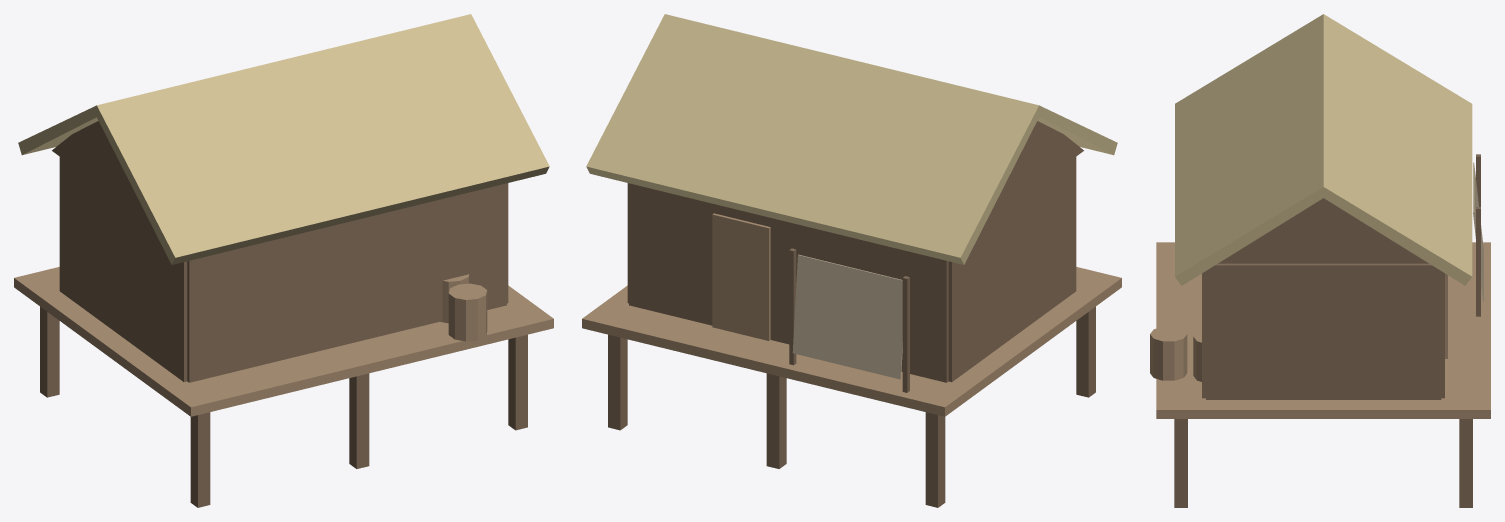
File: fish_hut.glb
3 views of the same model, side by side, from view 1: azimuth 30°, elevation 25°; view 2: azimuth 150°, elevation 25°; view 3: azimuth 270°, elevation 25° (orthographic). The views are drawn at different scales.
Visible parts, largest first — view 1: fish_hut; view 2: fish_hut; view 3: fish_hut.
Boxes of the visible parts, x1,y1,x2,y2 form: fish_hut: (14,14,553,507); fish_hut: (582,14,1121,507); fish_hut: (1150,14,1490,507).
Bounding box in the file's own units: 6.6 × 5.9 × 5.5.
